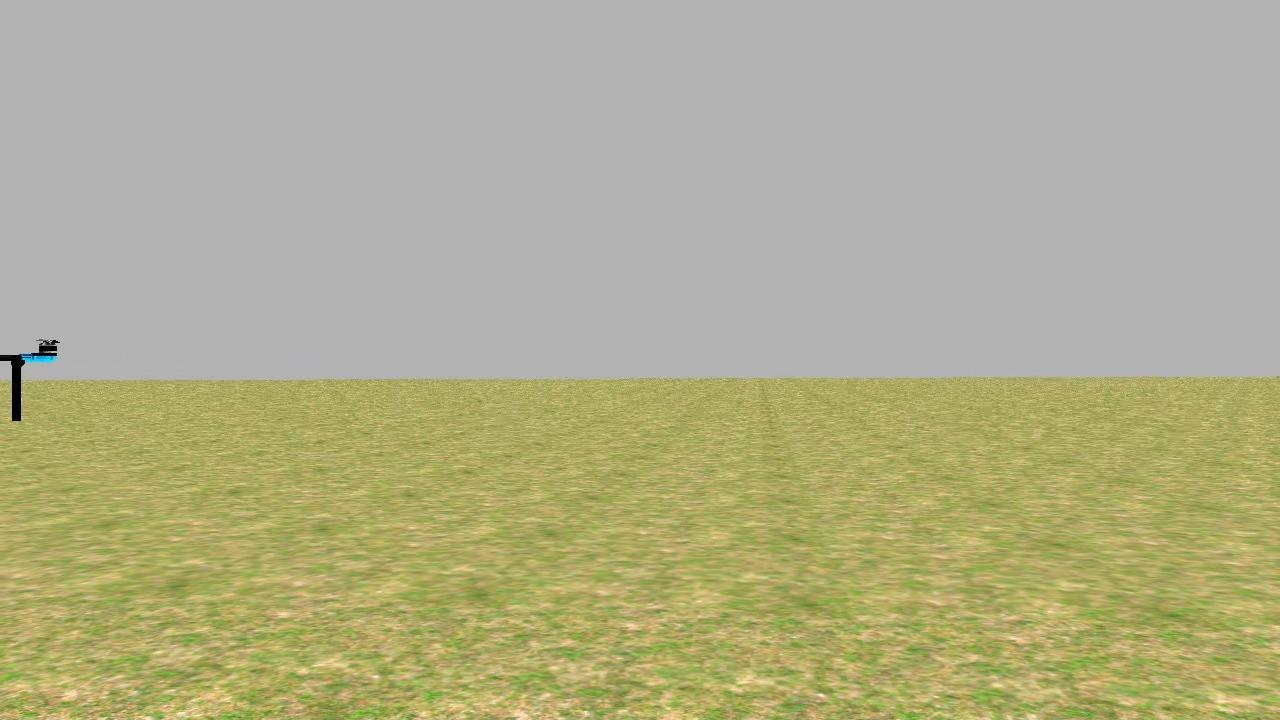UAV: (0, 310, 68, 429)
